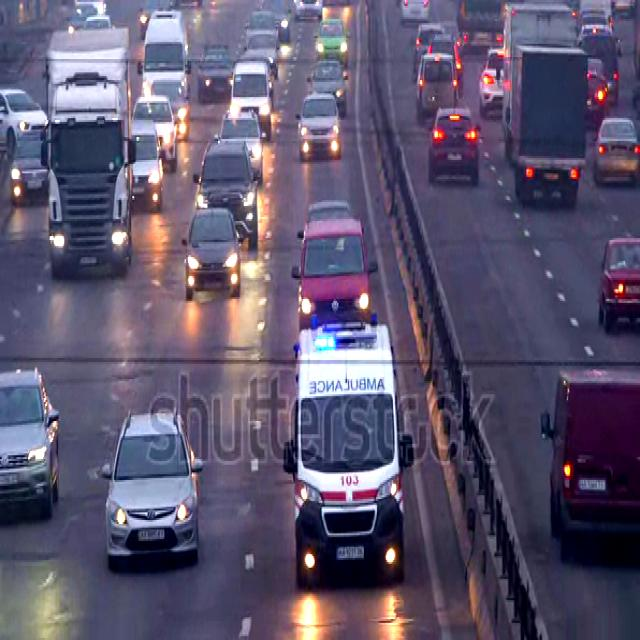ambulance: (282, 316, 414, 596)
